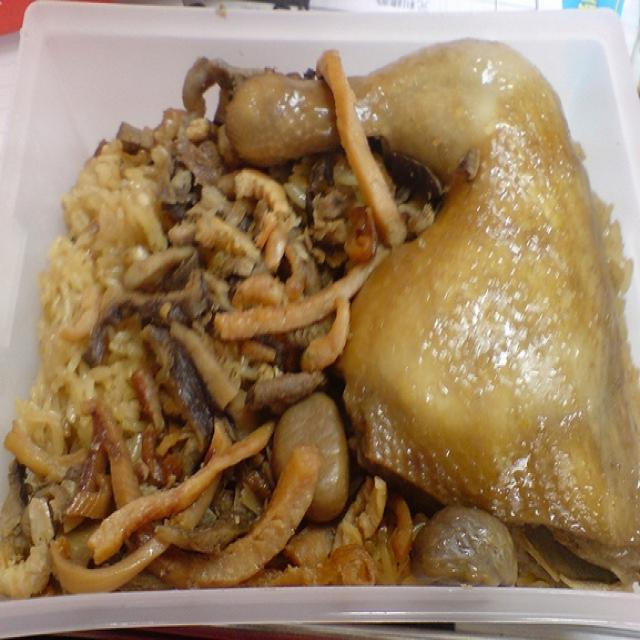米饭主食: (28, 28, 621, 585)
